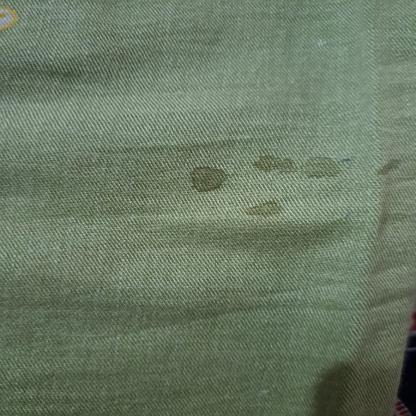spot: (254, 146, 358, 184), (184, 158, 241, 198), (236, 195, 289, 223), (374, 152, 405, 184)
